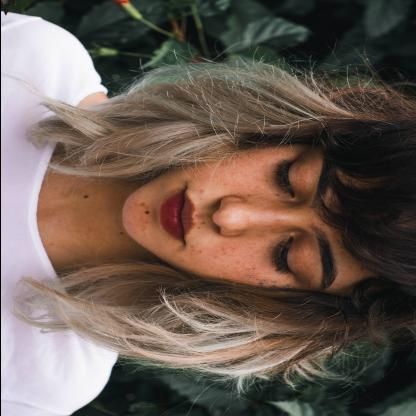Eye: (270, 234, 312, 282), (274, 152, 304, 200)
Mouth: (158, 184, 198, 242)
Nose: (210, 194, 288, 236)
